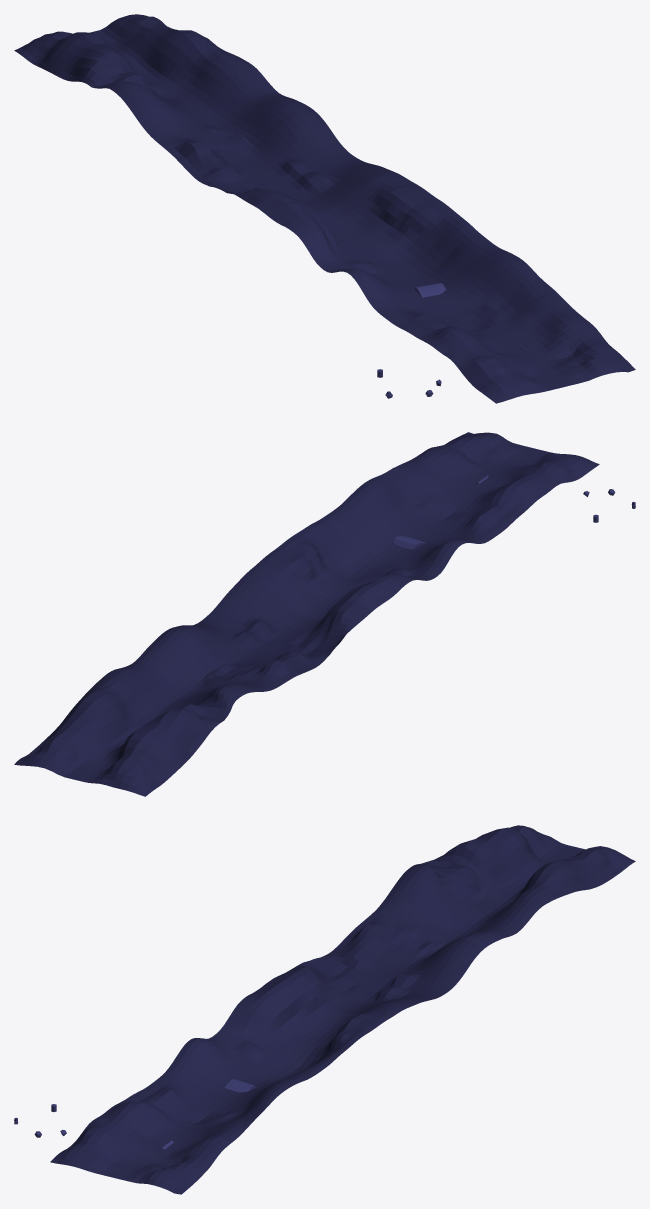
The model's file is base environment01.fbx.
3 views of the same model, one above another, from view 1: azimuth 30°, elevation 25°; view 2: azimuth 150°, elevation 25°; view 3: azimuth 330°, elevation 25° (orthographic). The views are drawn at different scales.
Visible parts, largest first — view 1: Plane; view 2: Plane; view 3: Plane.
Boxes of the visible parts, box(x1,y1,x2,y2) form: Plane: box(14, 14, 635, 403); Plane: box(14, 432, 599, 796); Plane: box(50, 825, 635, 1194).
Bounding box in the file's own units: 68648 × 14435 × 268274.
4 materials, 4 textured.
